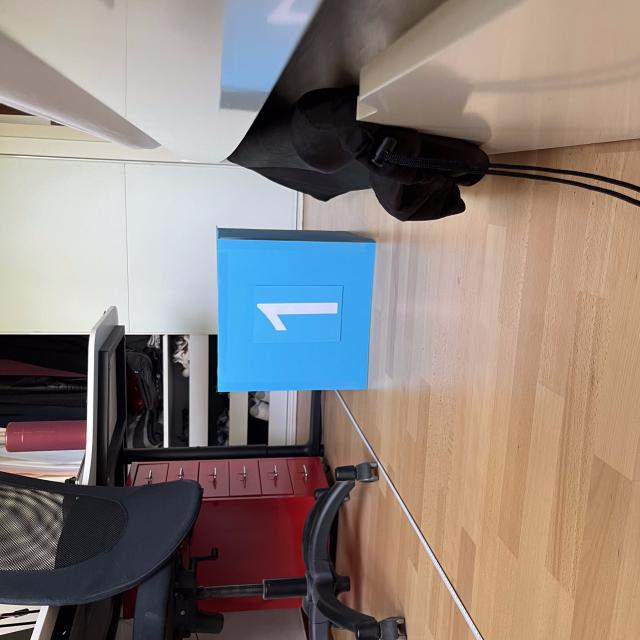box: (211, 222, 379, 394)
